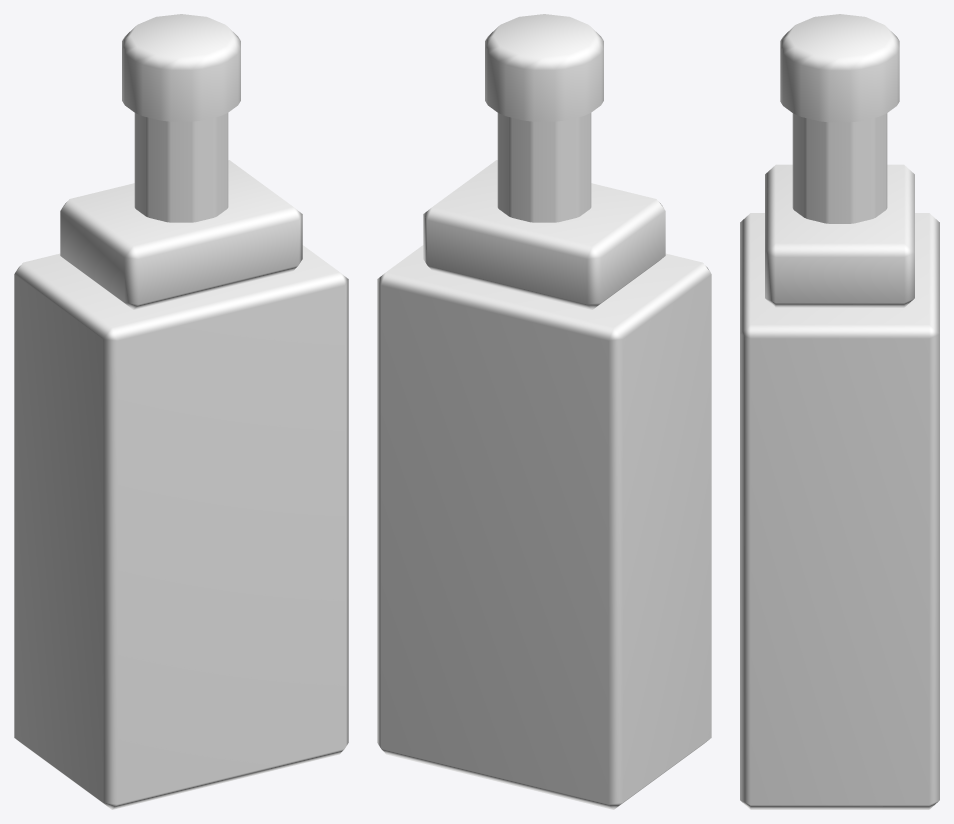
File: oil.glb
3 renders of one model, left to right at view 1: azimuth 30°, elevation 25°; view 2: azimuth 150°, elevation 25°; view 3: azimuth 270°, elevation 25°, orthographic.
Visible parts, largest first — view 1: Oil; view 2: Oil; view 3: Oil.
Part boxes in pixels (x1,y1,x2,y2): Oil: (14,14,348,809); Oil: (377,14,711,809); Oil: (740,14,939,809).
Bounding box in the file's own units: 0.08 × 0.222 × 0.056.
1 material, 1 textured.
